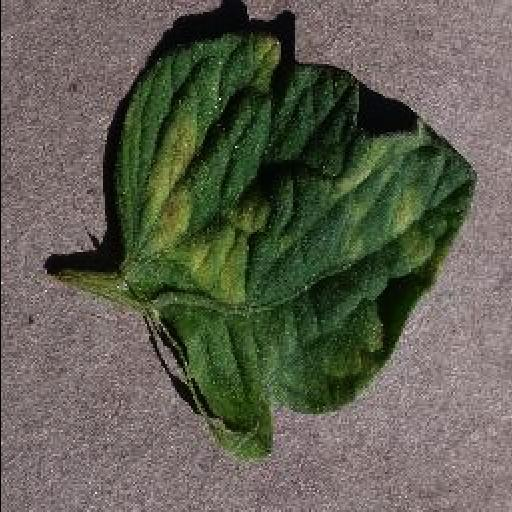disease_tomato: (109, 34, 479, 458)
